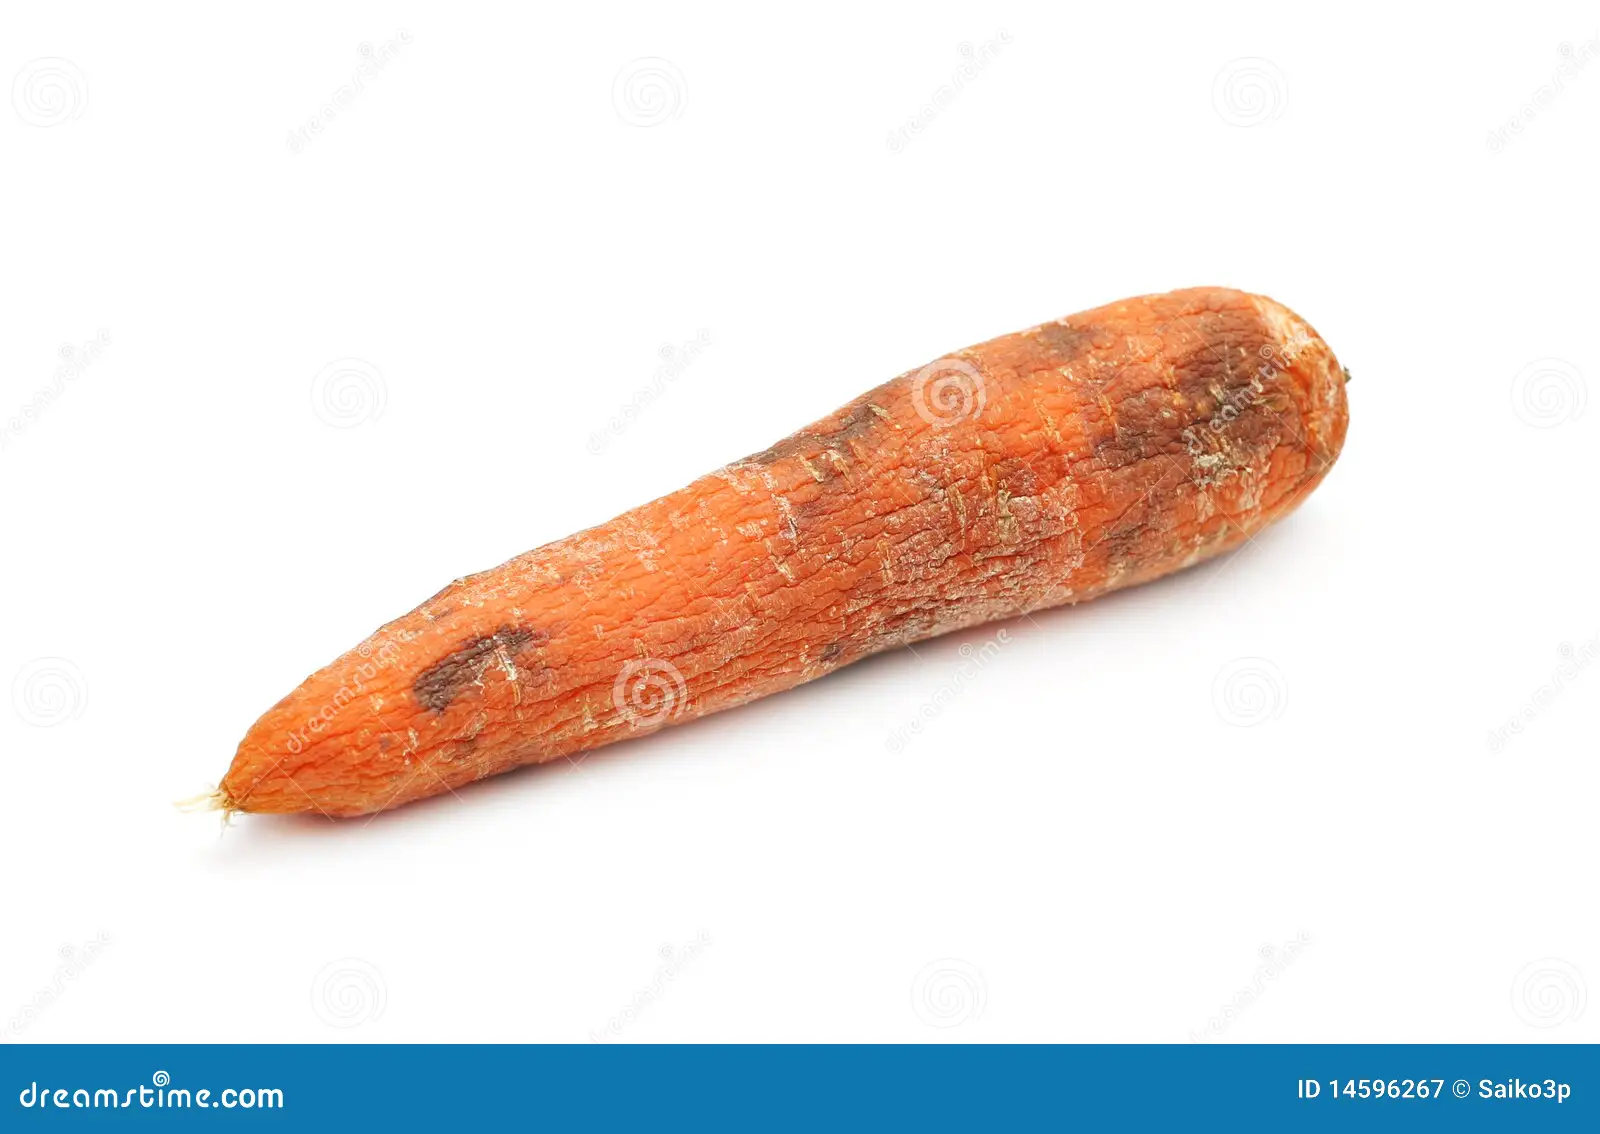rotten carrot: (133, 229, 1447, 866)
